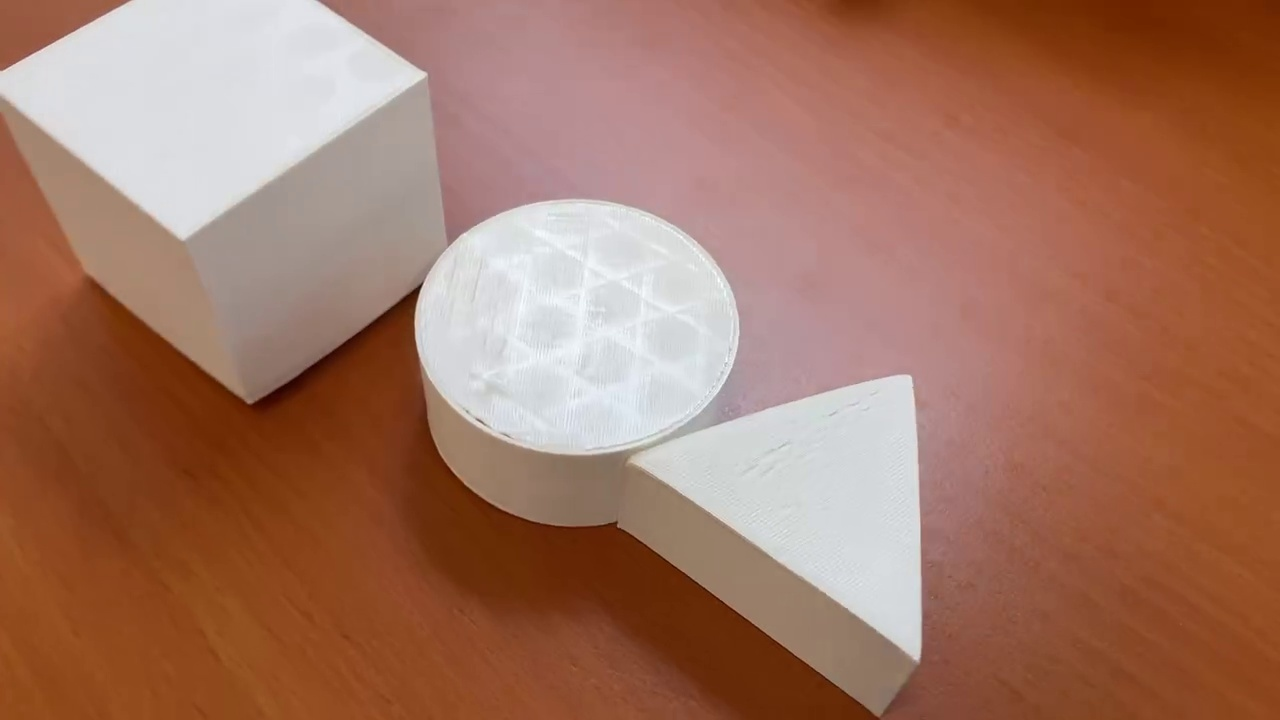Cube: (1, 1, 449, 409)
Cylinder_short: (413, 197, 740, 529)
Triangle_short: (618, 372, 925, 715)
